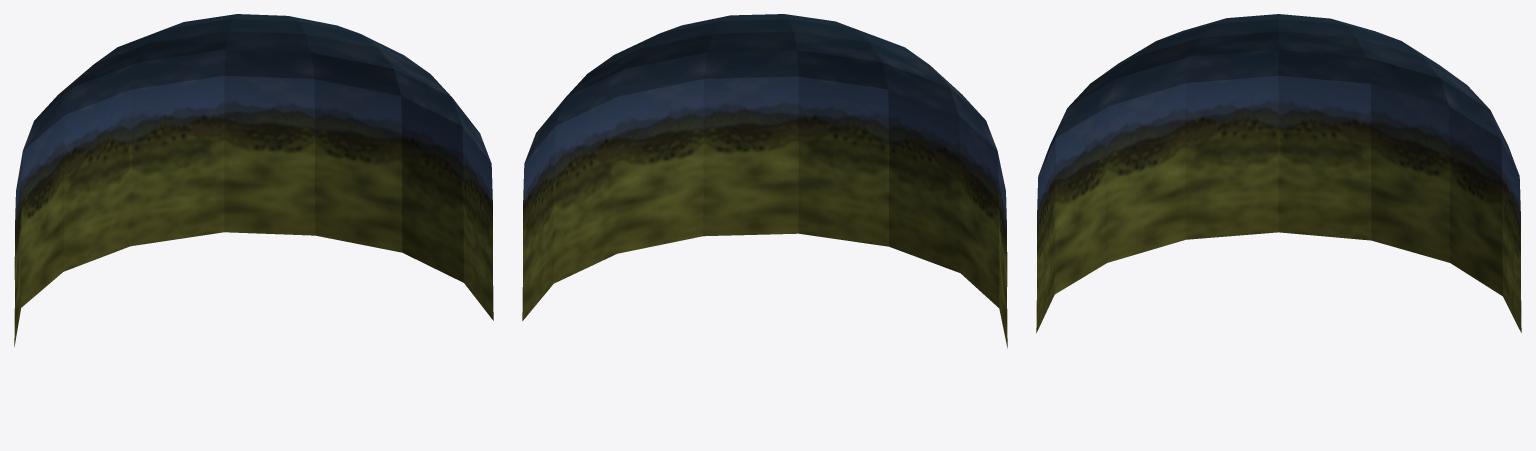
File: Track_03_sky.glb
3 views of the same model, side by side, from view 1: azimuth 30°, elevation 25°; view 2: azimuth 150°, elevation 25°; view 3: azimuth 270°, elevation 25° (orthographic).
Visible parts, largest first — view 1: Mesh_0; view 2: Mesh_0; view 3: Mesh_0.
Part boxes in pixels (bbox=[...]): Mesh_0: bbox=[14, 14, 493, 346]; Mesh_0: bbox=[522, 14, 1007, 348]; Mesh_0: bbox=[1036, 14, 1521, 333].
Size of the model in its own units: 366 by 243 by 366.
1 material, 1 textured.
